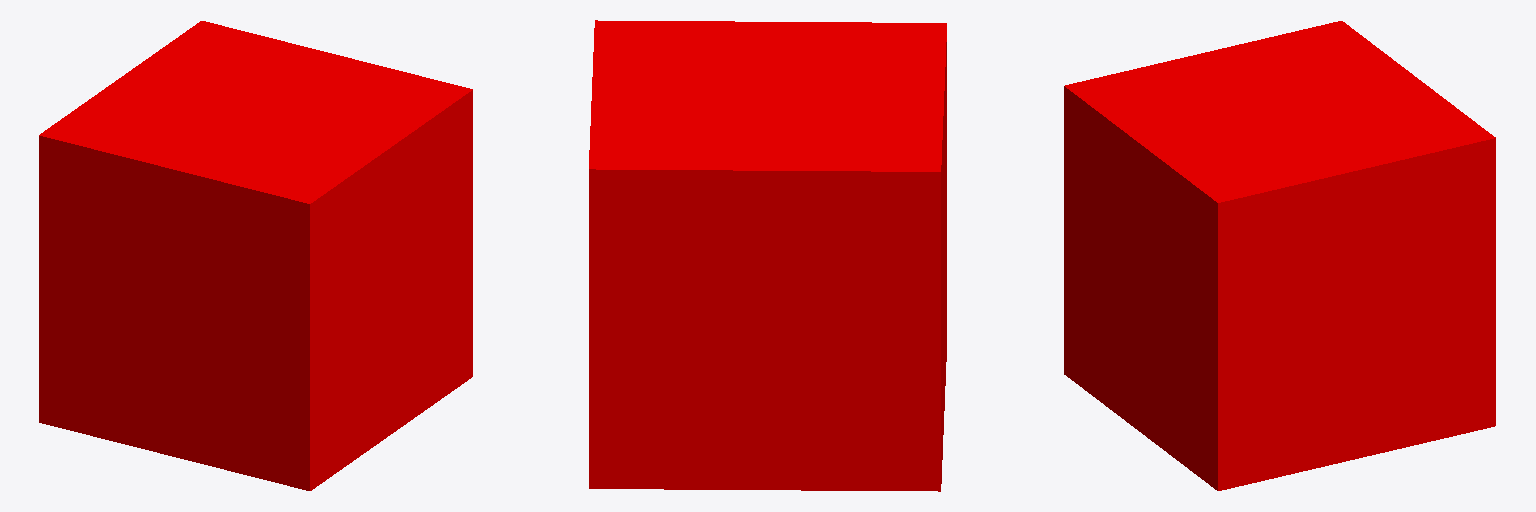
robot.urdf — cube_1:
<?xml version='1.0'?>
<robot name='cube_1'>
	<link name='world'/>
	<joint name='world_joint' type='floating'>
		<parent link='world'/>
		<child link='cube'/>
		<origin xyz='0 0 0' rpy='0 0 0'/>
	</joint>
	<link name='cube'>
		<visual>
			<origin xyz='0.02604722665003956 0.1477211629518312 0.015' rpy='0 0 0.5063891717921418'/>
			<geometry>
				<box size='0.03 0.03 0.03' />
			</geometry>
			<material name='Red'>
				<color rgba='1 0 0 1' />
			</material>
		</visual>
		<collision>
			<origin xyz='0.02604722665003956 0.1477211629518312 0.015' rpy='0 0 0.5063891717921418'/>
			<geometry>
				<box size='0.03 0.03 0.03' />
			</geometry>
		</collision>
		<inertial>
			<origin xyz='0.02604722665003956 0.1477211629518312 0.015' rpy='0 0 0.5063891717921418'/>
			<mass value='0.03' />
			<inertia 
				ixx='4.5e-06' 
				ixy='0.0' 
				ixz='0.0' 
				iyy='4.5e-06' 
				iyz='0.0' 
				izz='4.5e-06' />
		</inertial>
	</link>
	<gazebo reference='cube'>
		<material>Gazebo/Red</material>
	</gazebo>
</robot>

--- Render facts (derived) ---
3 views of the same robot in one strip: view 1: azimuth 30°, elevation 25°; view 2: azimuth 150°, elevation 25°; view 3: azimuth 270°, elevation 25° (orthographic).
Model cube_1 with 2 links and 1 joints (1 floating), rooted at world, posed every joint at zero.
Links seen in each view (by area): view 1: cube; view 2: cube; view 3: cube.
Boxes of the visible links, left/top/right/bottom form: cube: left=39, top=21, right=472, bottom=490; cube: left=589, top=20, right=946, bottom=491; cube: left=1064, top=21, right=1495, bottom=490.
Bounding box of the posed robot: 0.0408 × 0.0408 × 0.03 m (x, y, z).
Geometry: primitives only (box / cylinder / sphere), no mesh files.